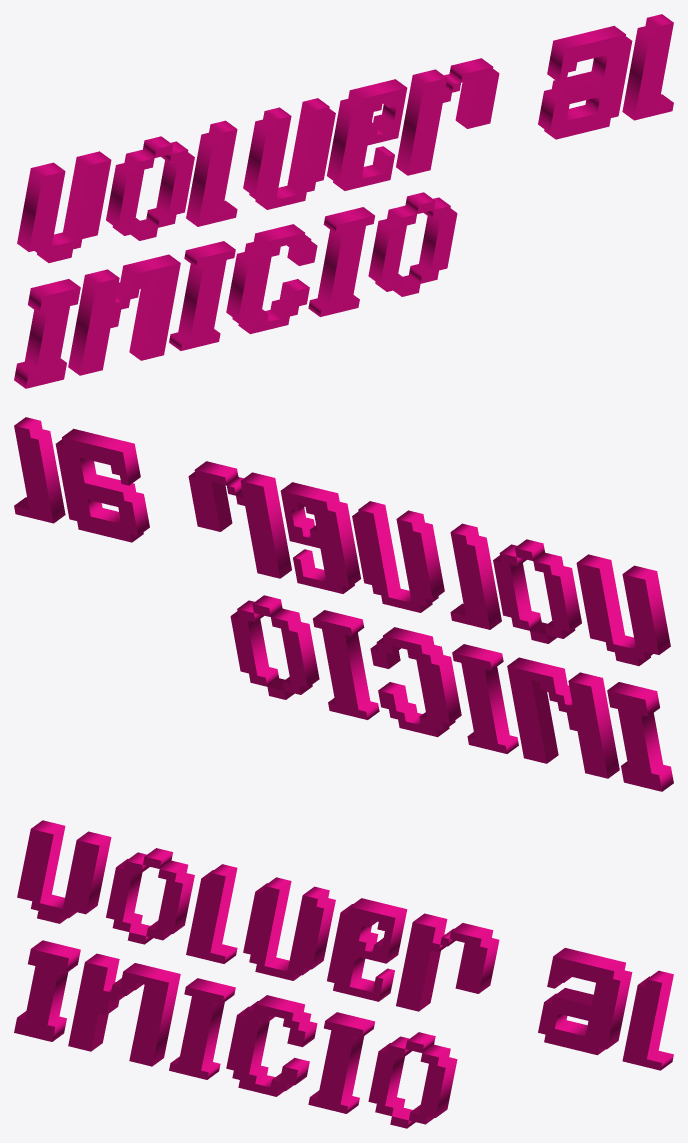
The model's file is volveraintentar.glb.
3 views of the same model, one above another, from view 1: azimuth 30°, elevation 25°; view 2: azimuth 150°, elevation 25°; view 3: azimuth 330°, elevation 25° (orthographic).
Visible parts, largest first — view 1: Text.001; view 2: Text.001; view 3: Text.001.
Boxes of the visible parts, <box> form: Text.001: <box>14,14,673,388</box>; Text.001: <box>14,417,673,791</box>; Text.001: <box>14,820,673,1128</box>.
Bounding box in the file's own units: 5.71 × 1.75 × 0.18.
